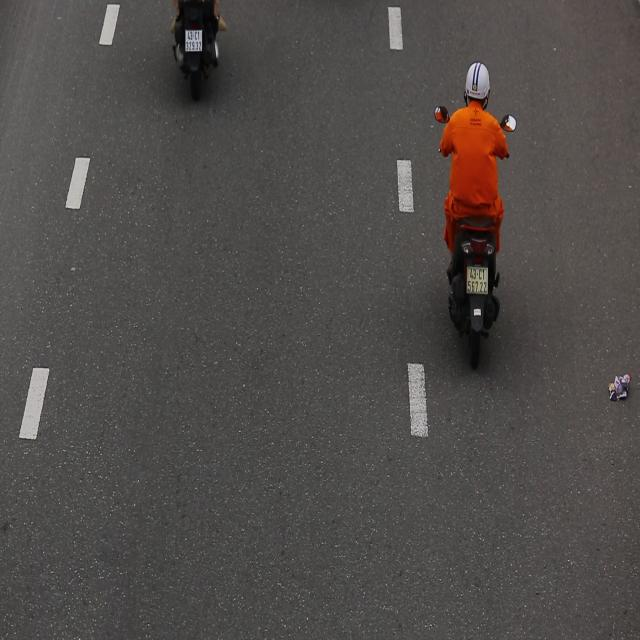motorbike: (428, 52, 520, 378)
